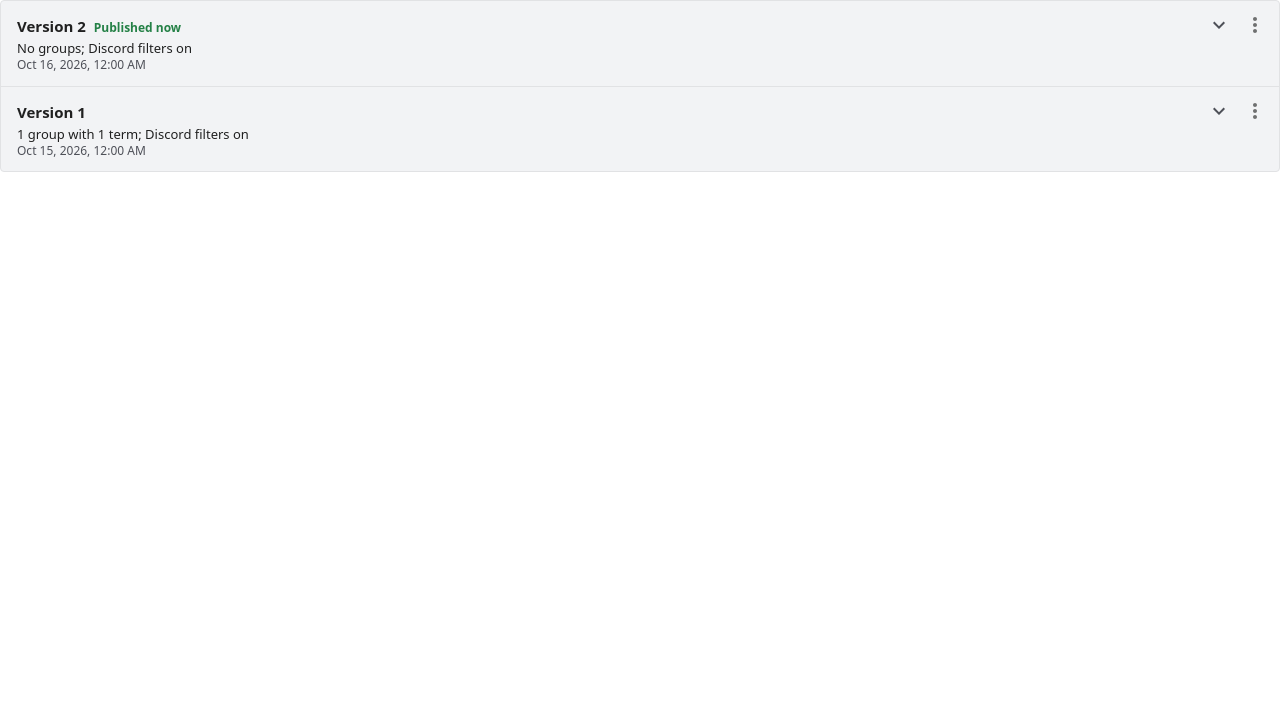
Test: Versions on a phone › keeps a version's actions in a sheet, and says why Restore is off
This screenshot has width=1280, height=720.
Click the button named "More actions for version 1". click: (1255, 111)
box: [1235, 91, 1275, 131]
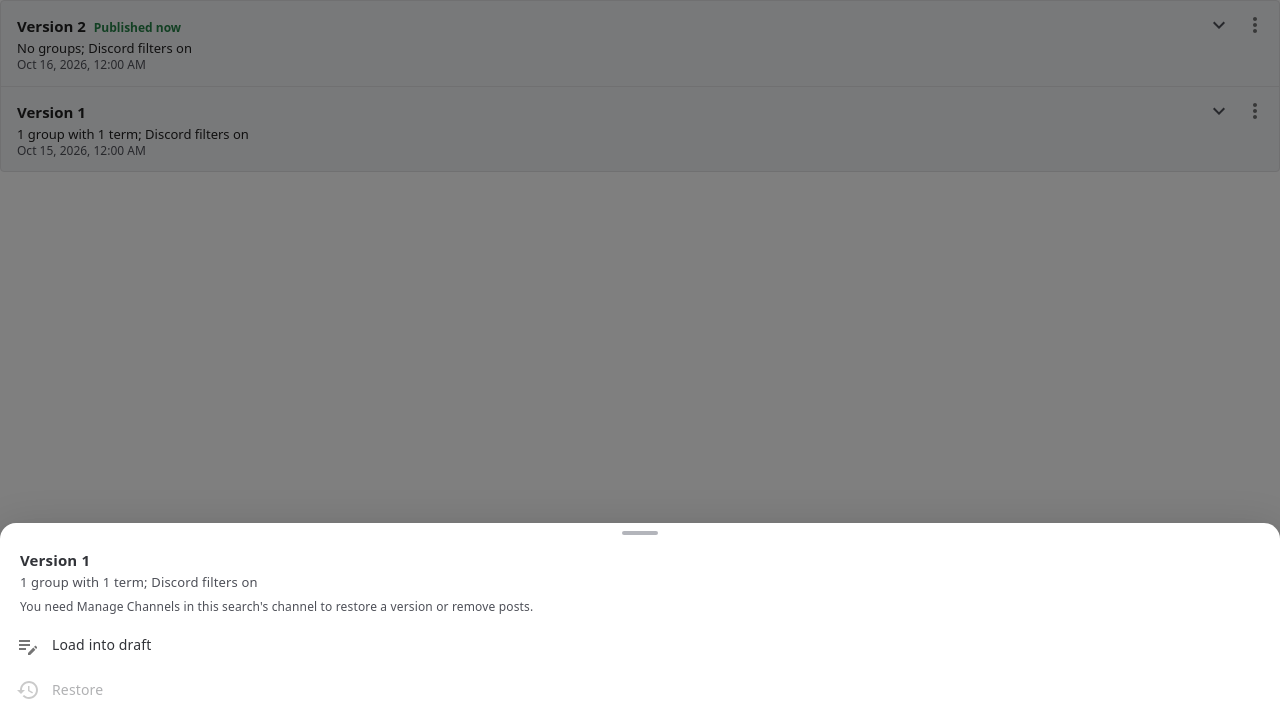
Now the text "You need Manage Channels" is shown, box [20, 598, 533, 615]
// The draft has unpublished changes, so loading a version asks first.
Click the button "Load into draft". click: (84, 646)
box: [16, 634, 151, 658]
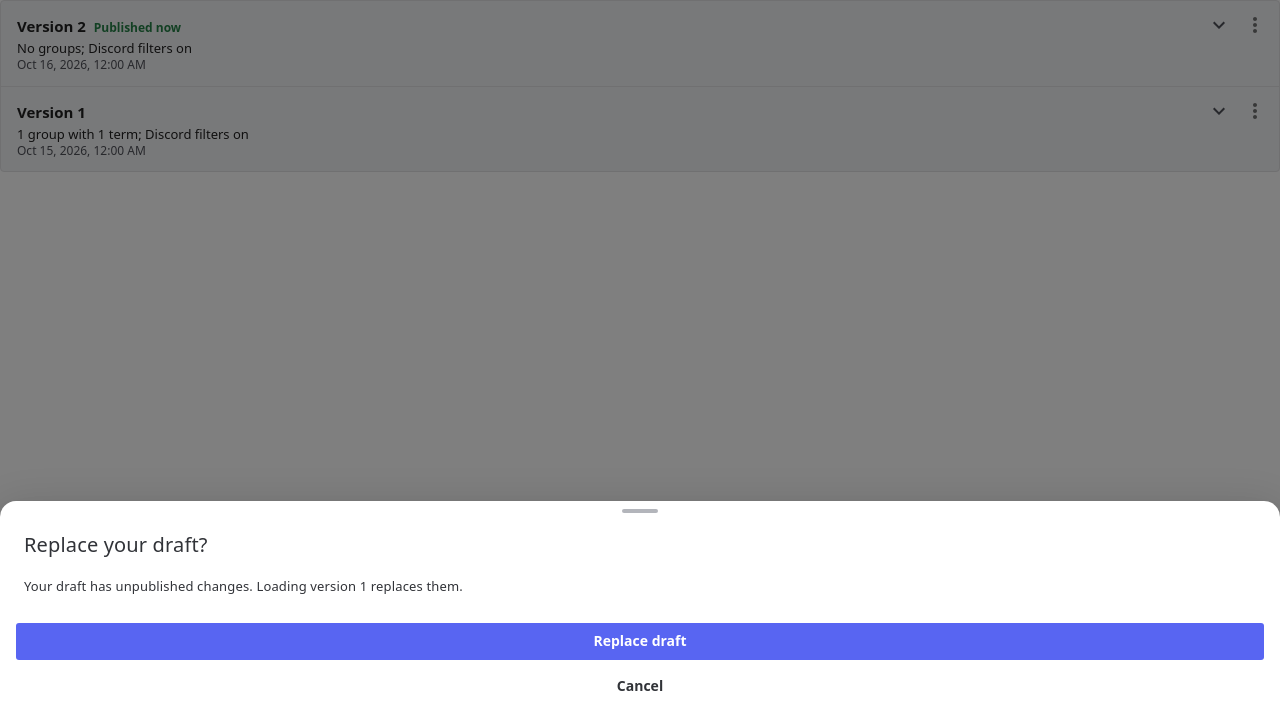
Now the dialog "Replace your draft?" is shown, box [0, 501, 1279, 719]
